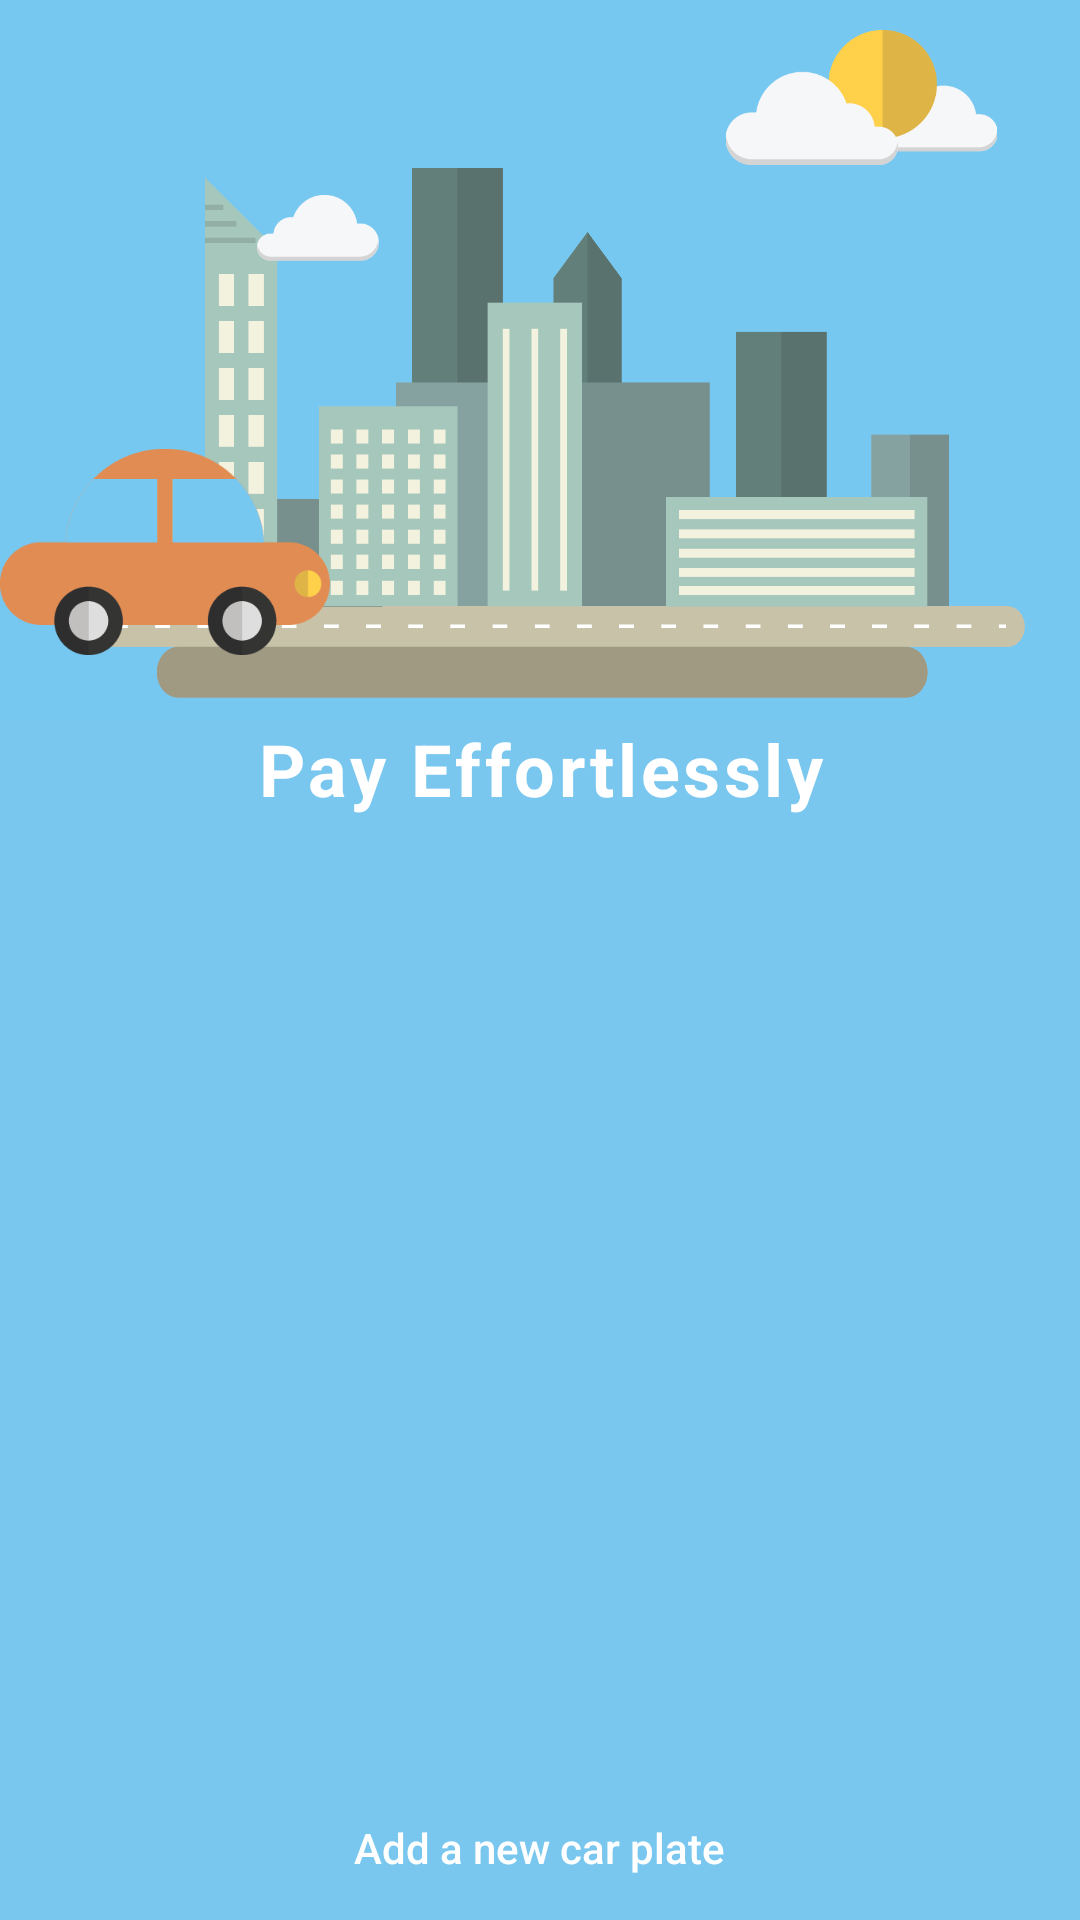

Point at icon controls on the screen. Image size 1080w x 1920h, points as (x=x, y=y).
car: (x=165, y=552)
